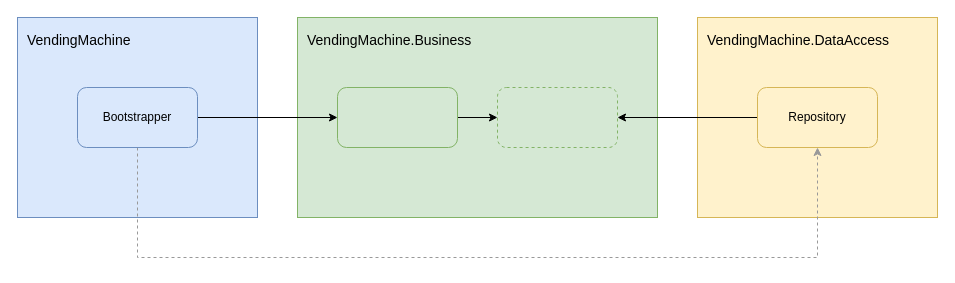
Image size: 955x283. Some labels were removed from this diagram. Here are the shapes that lost their labels. From the top down, the centre of each, then its label:
At (397,117): "UseCase".
At (557,117): "IRepository".
